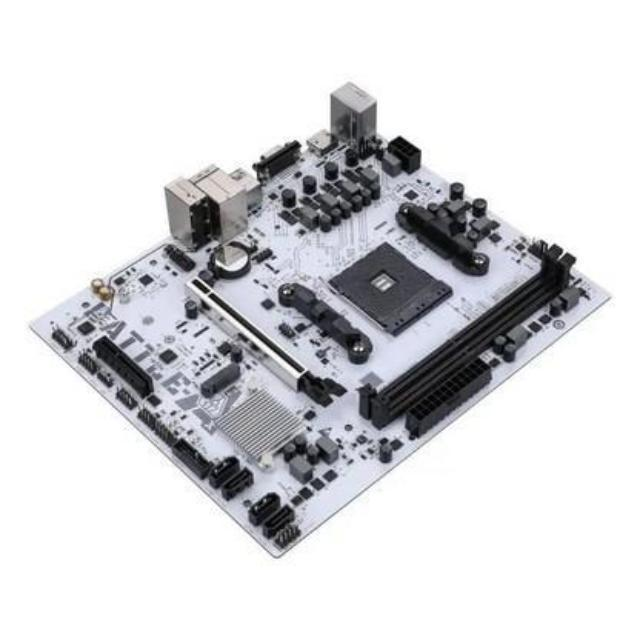Mainboard: (23, 76, 617, 562)
